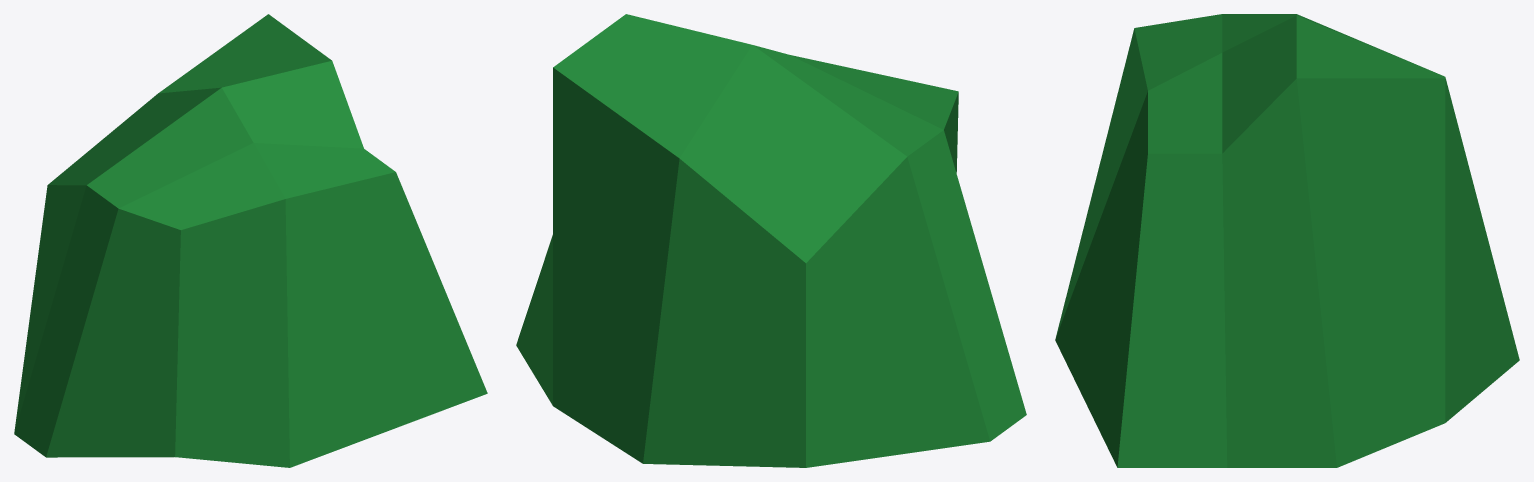
Rendered from mato1.fbx.
3 views of the same model, side by side, from view 1: azimuth 30°, elevation 25°; view 2: azimuth 150°, elevation 25°; view 3: azimuth 270°, elevation 25° (orthographic). The views are drawn at different scales.
Visible parts, largest first — view 1: Cube; view 2: Cube; view 3: Cube.
Part boxes in pixels (x1,y1,x2,y2): Cube: (14, 14, 487, 467); Cube: (516, 14, 1026, 467); Cube: (1055, 14, 1519, 467).
Size of the model in its own units: 359 by 256 by 313.
